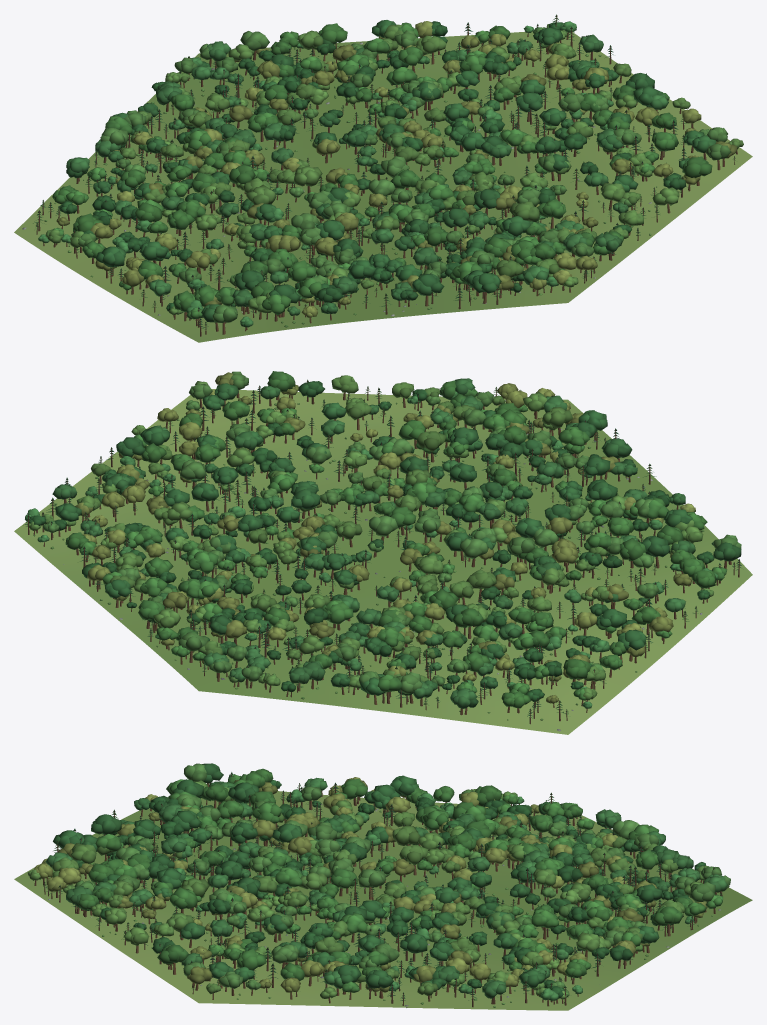
The picture shows the model from 3 angles, top to bottom: view 1: azimuth 30°, elevation 25°; view 2: azimuth 150°, elevation 25°; view 3: azimuth 270°, elevation 25°; orthographic projection.
Parts seen in each view (by area): view 1: broadleaf_canopy, terrain, trunks, conifer_canopy, shrubs; view 2: broadleaf_canopy, terrain, trunks, conifer_canopy; view 3: broadleaf_canopy, terrain, trunks, conifer_canopy.
Boxes of the visible parts, x1,y1,x2,y2 form: broadleaf_canopy: [38, 20, 743, 327]; terrain: [14, 31, 752, 342]; trunks: [36, 15, 737, 336]; conifer_canopy: [33, 14, 735, 329]; shrubs: [44, 38, 681, 327]; broadleaf_canopy: [25, 371, 741, 708]; terrain: [14, 389, 752, 734]; trunks: [28, 380, 739, 724]; conifer_canopy: [23, 379, 741, 718]; broadleaf_canopy: [27, 763, 730, 1000]; terrain: [14, 791, 752, 1010]; trunks: [34, 773, 722, 1007]; conifer_canopy: [43, 772, 722, 1000].
Size of the model in its own units: 4330 by 749 by 5000.
